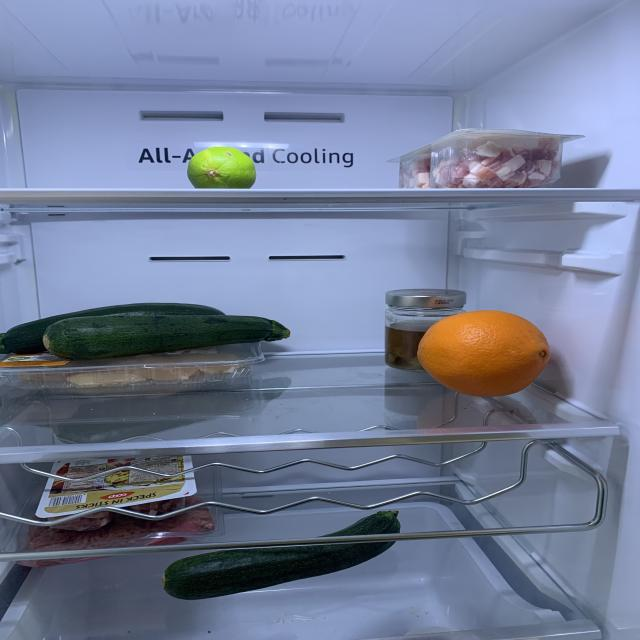bacon: (432, 146, 561, 187), (46, 509, 110, 532), (126, 498, 184, 520), (397, 156, 432, 188)
chicken_breast: (16, 353, 240, 388)
courgettes: (162, 512, 402, 600), (0, 303, 290, 357)
ground_beef: (26, 496, 213, 564)
lime: (187, 148, 256, 190)
olives: (383, 322, 435, 367)
orange: (418, 312, 549, 396)
